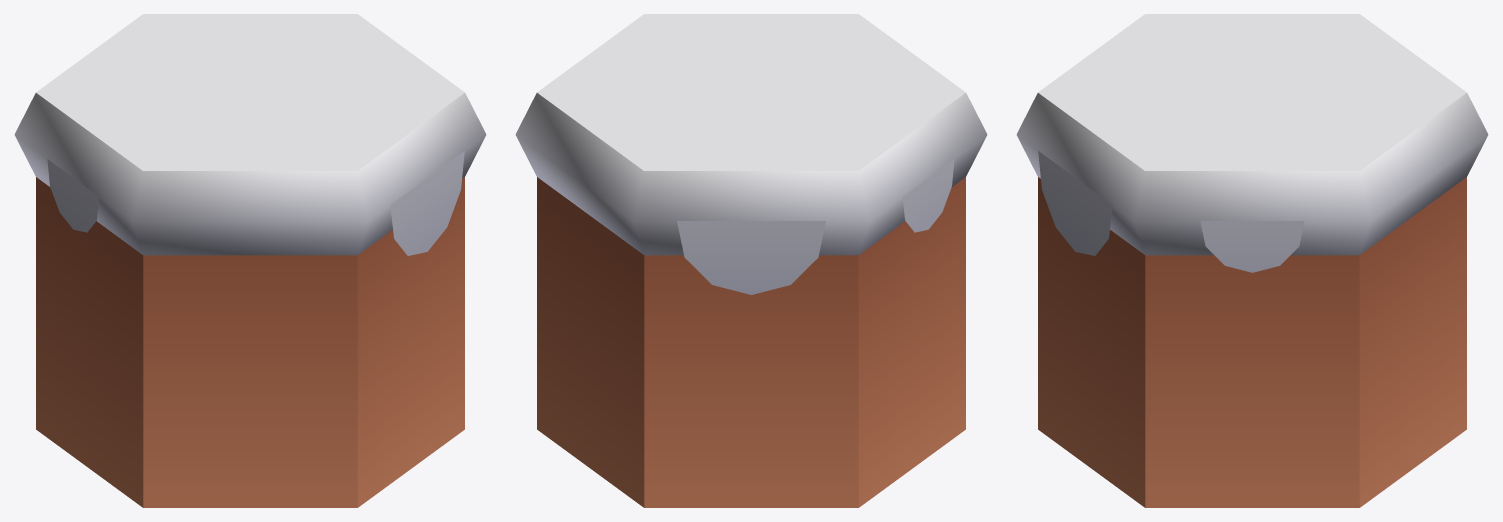
File: block-snow-overhang-hexagon.glb
The picture shows the model from 3 angles, left to right: view 1: azimuth 30°, elevation 25°; view 2: azimuth 150°, elevation 25°; view 3: azimuth 270°, elevation 25°; orthographic projection.
Parts seen in each view (by area): view 1: block-snow-overhang-hexagon; view 2: block-snow-overhang-hexagon; view 3: block-snow-overhang-hexagon.
Part boxes in pixels (<box>): block-snow-overhang-hexagon: <box>14,14,486,507</box>; block-snow-overhang-hexagon: <box>515,14,987,507</box>; block-snow-overhang-hexagon: <box>1016,14,1488,507</box>.
Bounding box in the file's own units: 1.1 × 1 × 1.27.
1 material, 1 textured.
